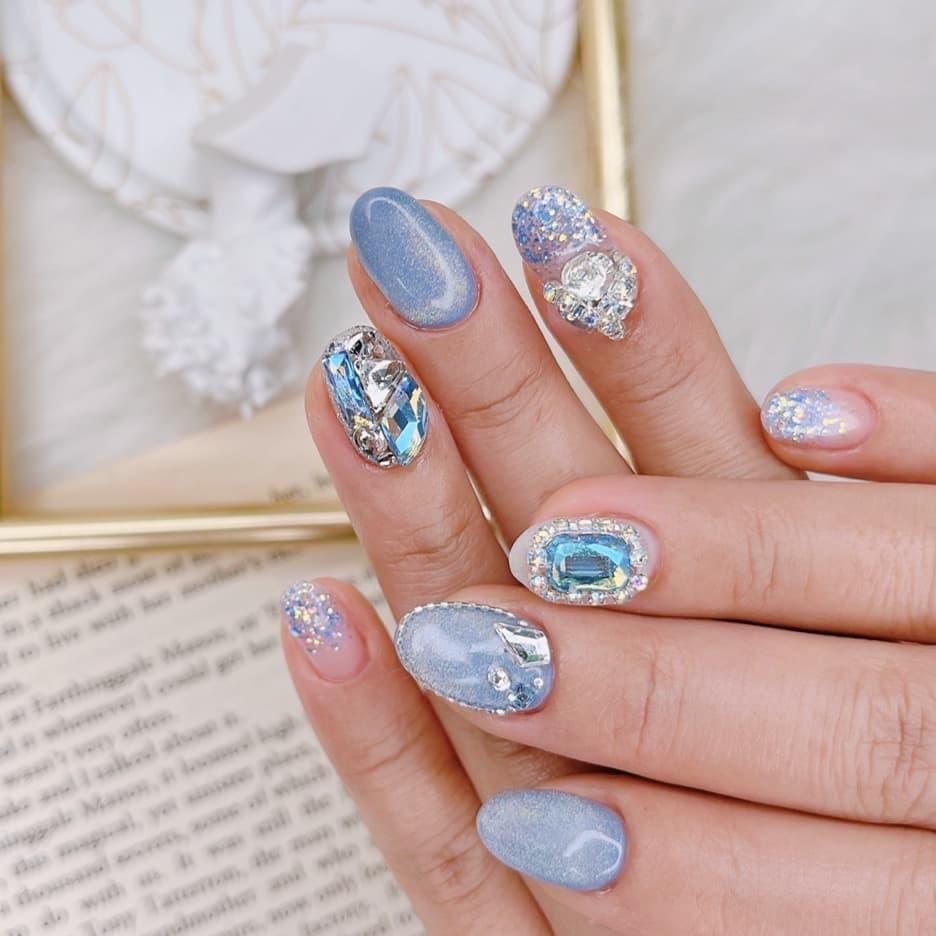nail: (510, 183, 639, 341), (348, 184, 480, 331), (393, 598, 555, 715), (318, 323, 431, 469), (474, 786, 627, 893), (281, 578, 369, 683), (759, 383, 877, 451)
